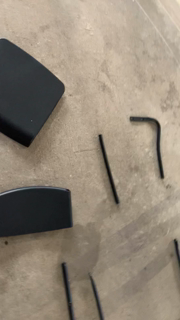L pipe: (128, 115, 166, 183)
i pipe: (97, 133, 123, 207)
